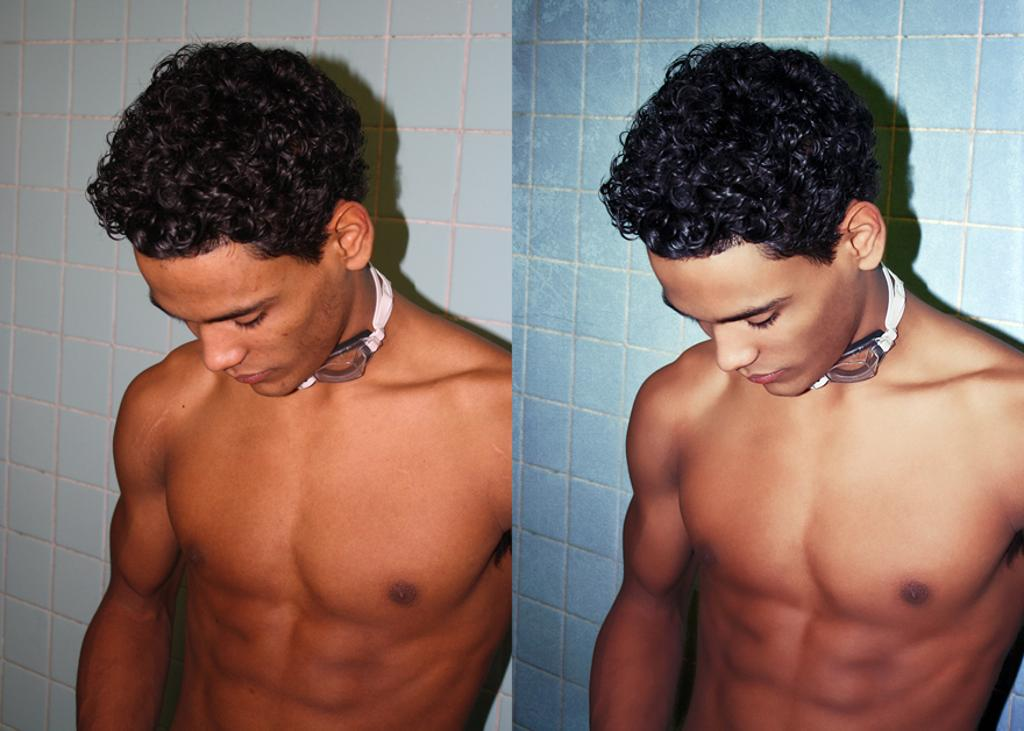face: (144, 240, 316, 408), (678, 254, 820, 402)
